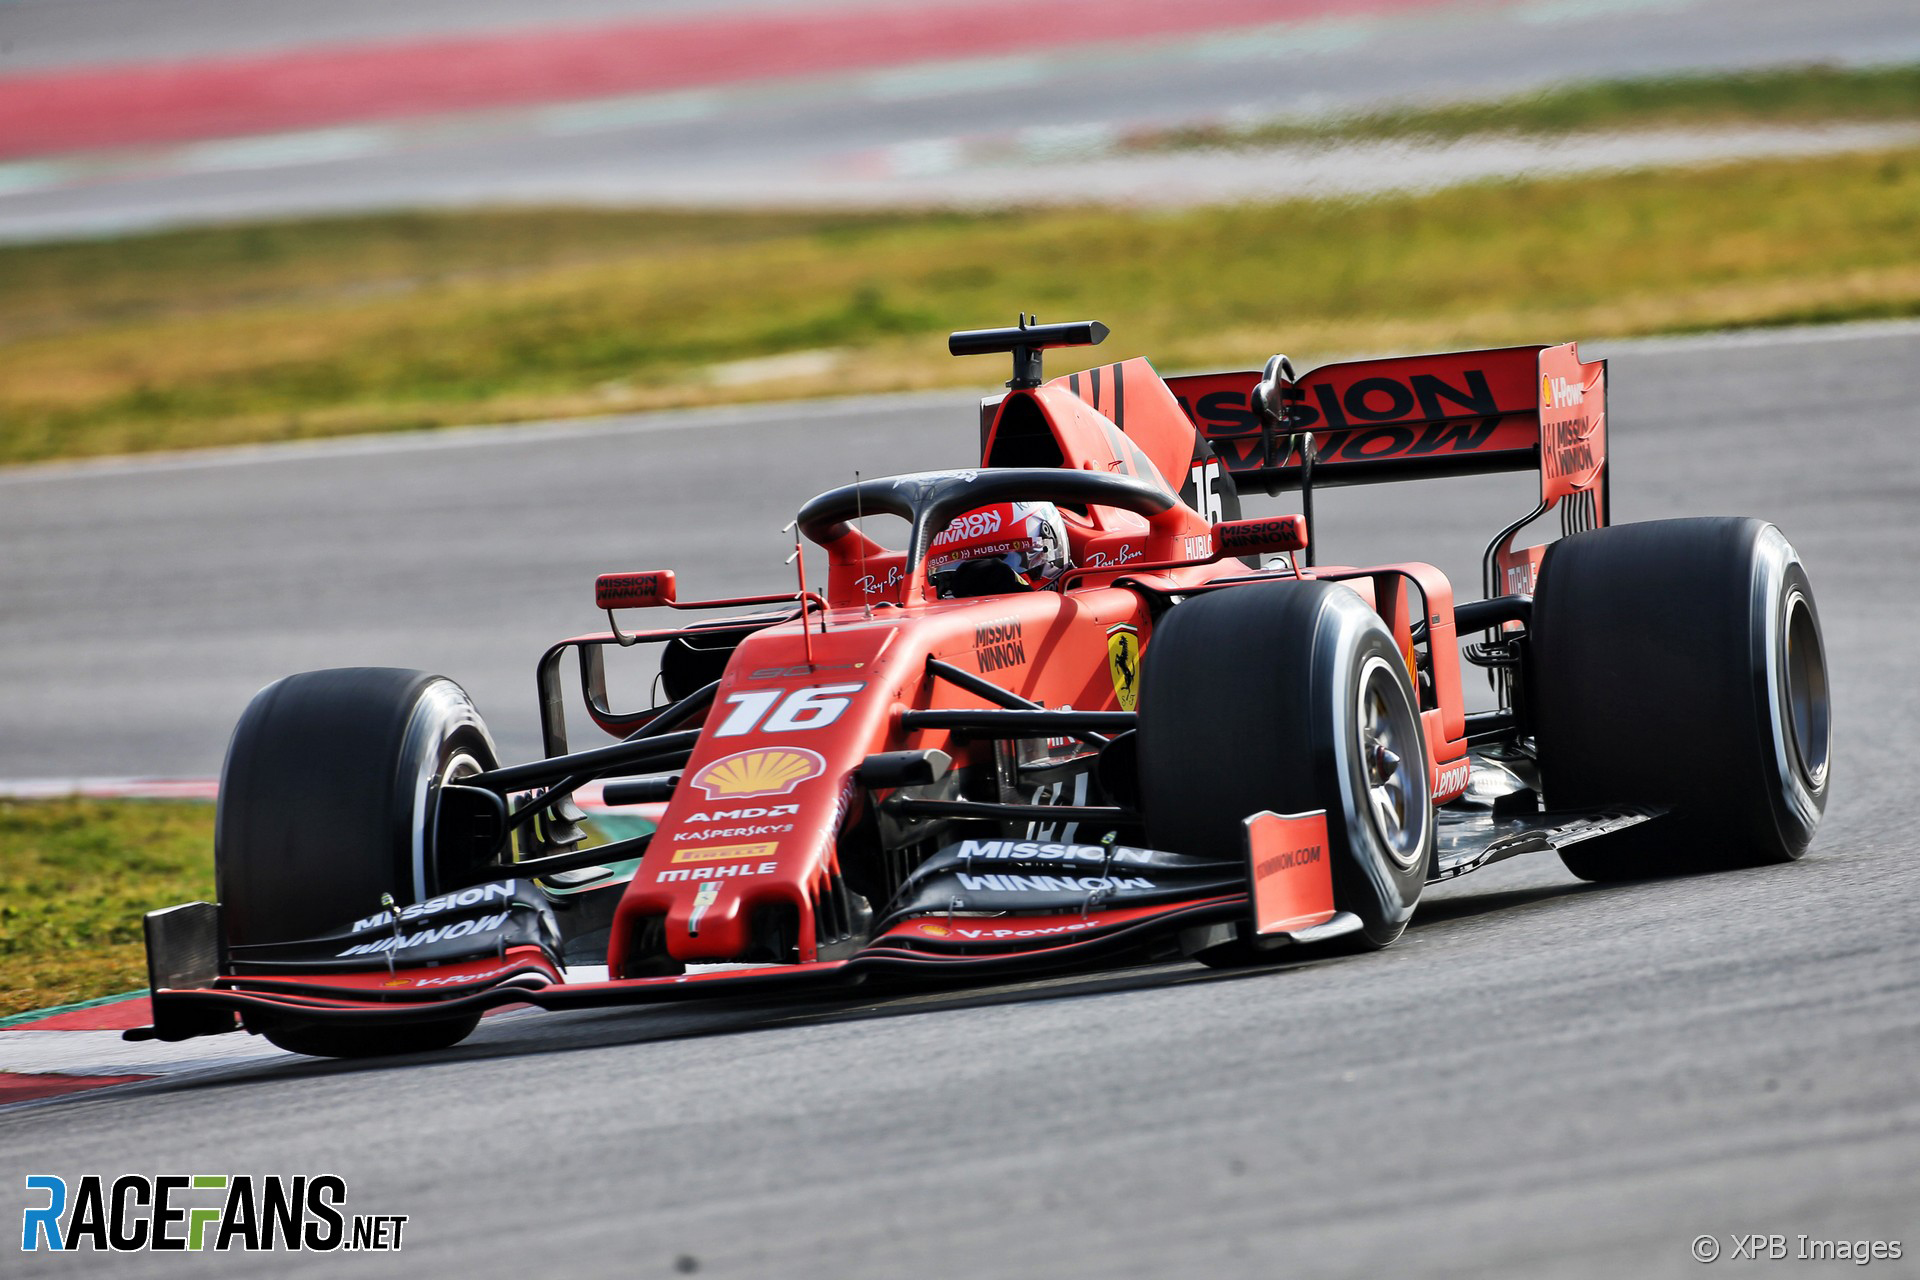F1 Car: (130, 291, 1846, 1064)
